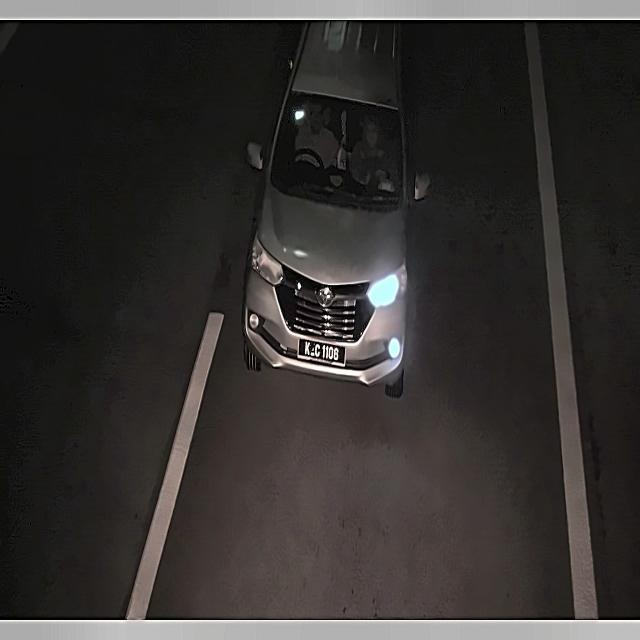car: (295, 337, 346, 369)
